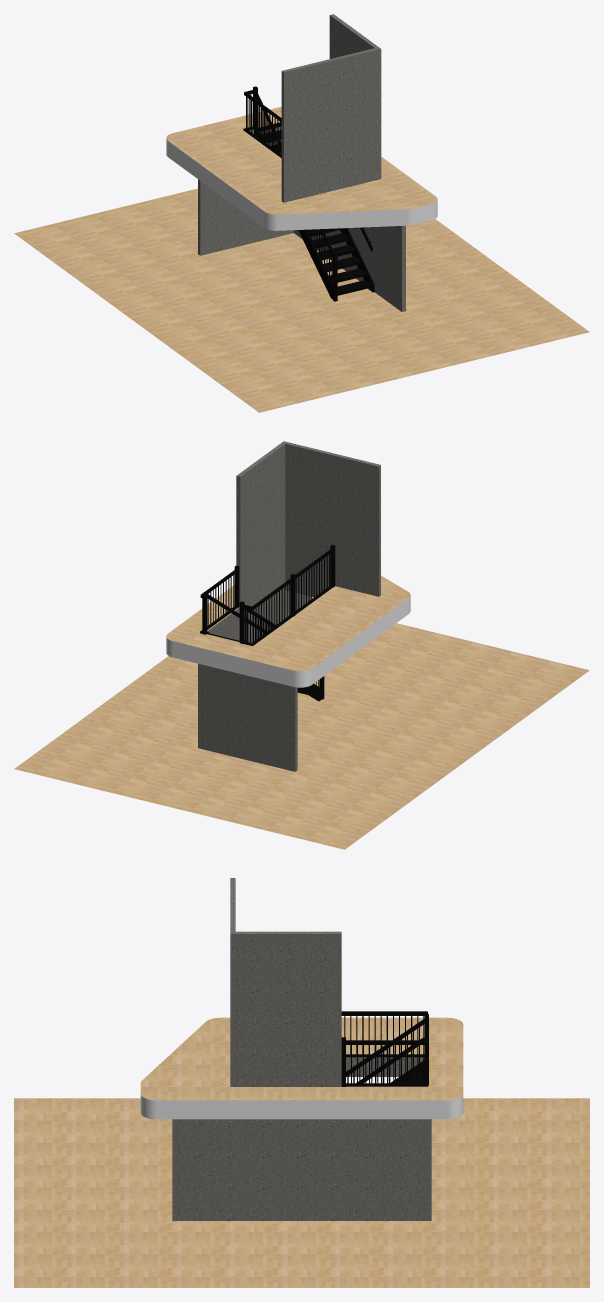
3 views of the same model, one above another, from view 1: azimuth 30°, elevation 25°; view 2: azimuth 150°, elevation 25°; view 3: azimuth 270°, elevation 25° (orthographic). The views are drawn at different scales.
Visible parts, largest first — view 1: _x0023_OBJECT3Dcon_parkett.jpg1111, _x0023_BEGIN_WALLbeton1.jpg1110_x002C_3, _x0023_OBJECT3D0_x002C_90_x002C_90_x002C_91, _x0023_TREAD0001, _x0023_BALUSTER0001, _x0023_STRING0001, _x0023_HANDRAIL0001; view 2: _x0023_OBJECT3Dcon_parkett.jpg1111, _x0023_BEGIN_WALLbeton1.jpg1110_x002C_3, _x0023_OBJECT3D0_x002C_90_x002C_90_x002C_91, _x0023_BALUSTER0001, _x0023_POST0001, _x0023_HANDRAIL0001, _x0023_BEGIN_OPENINGbeton1.jpg1111; view 3: _x0023_OBJECT3Dcon_parkett.jpg1111, _x0023_BEGIN_WALLbeton1.jpg1110_x002C_3, _x0023_OBJECT3D0_x002C_90_x002C_90_x002C_91, _x0023_BALUSTER0001, _x0023_HANDRAIL0001, _x0023_BEGIN_OPENINGbeton1.jpg1111, _x0023_POST0001, _x0023_BOTTOMRAIL0001.
Boxes of the visible parts, x1,y1,x2,y2 form: _x0023_OBJECT3Dcon_parkett.jpg1111: (14,106,589,412); _x0023_BEGIN_WALLbeton1.jpg1110_x002C_3: (198,14,405,311); _x0023_OBJECT3D0_x002C_90_x002C_90_x002C_91: (166,139,437,230); _x0023_TREAD0001: (260,122,372,294); _x0023_BALUSTER0001: (246,94,332,284); _x0023_STRING0001: (255,126,374,299); _x0023_HANDRAIL0001: (244,89,372,256); _x0023_OBJECT3Dcon_parkett.jpg1111: (14,575,589,849); _x0023_BEGIN_WALLbeton1.jpg1110_x002C_3: (198,441,380,771); _x0023_OBJECT3D0_x002C_90_x002C_90_x002C_91: (166,595,410,687); _x0023_BALUSTER0001: (207,554,329,686); _x0023_POST0001: (202,545,335,699); _x0023_HANDRAIL0001: (200,548,332,633); _x0023_BEGIN_OPENINGbeton1.jpg1111: (208,574,330,635); _x0023_OBJECT3Dcon_parkett.jpg1111: (14,1017,589,1287); _x0023_BEGIN_WALLbeton1.jpg1110_x002C_3: (172,878,431,1220); _x0023_OBJECT3D0_x002C_90_x002C_90_x002C_91: (140,1094,463,1119); _x0023_BALUSTER0001: (344,1016,424,1084); _x0023_HANDRAIL0001: (341,1011,427,1083); _x0023_BEGIN_OPENINGbeton1.jpg1111: (346,1058,424,1076); _x0023_POST0001: (341,1014,428,1086); _x0023_BOTTOMRAIL0001: (346,1054,428,1086).
Size of the model in its own units: 8.5 by 6 by 10.91.
12 materials, 4 textured.
